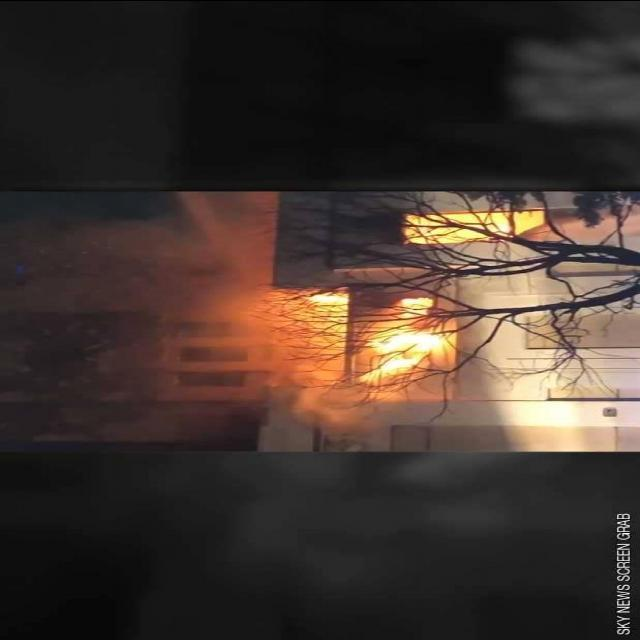Fire: (244, 290, 457, 388), (408, 208, 554, 244)
